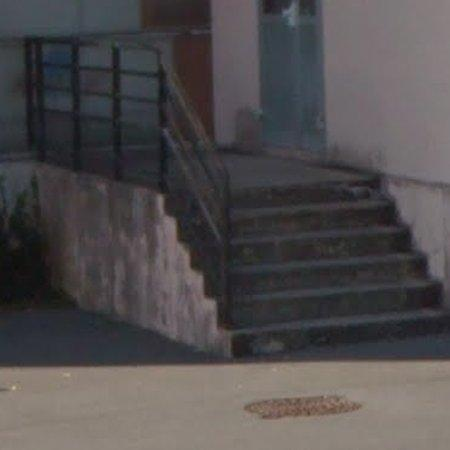stairs: (218, 153, 450, 356)
